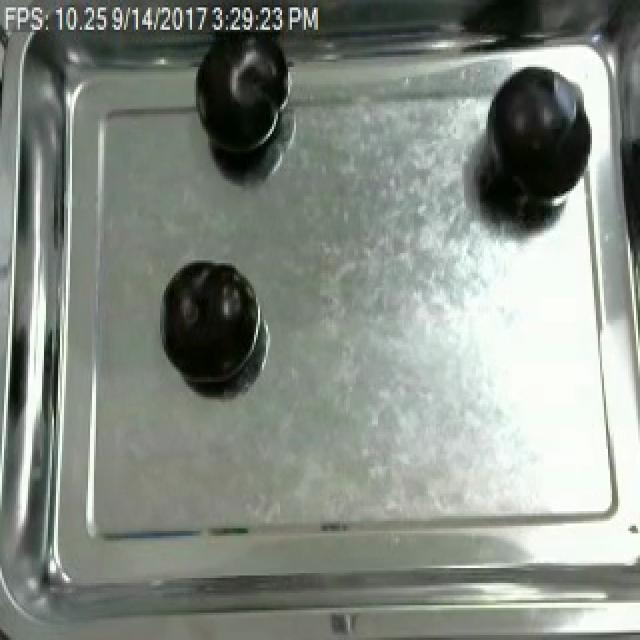Fruit: (474, 55, 602, 218), (158, 258, 256, 392)
